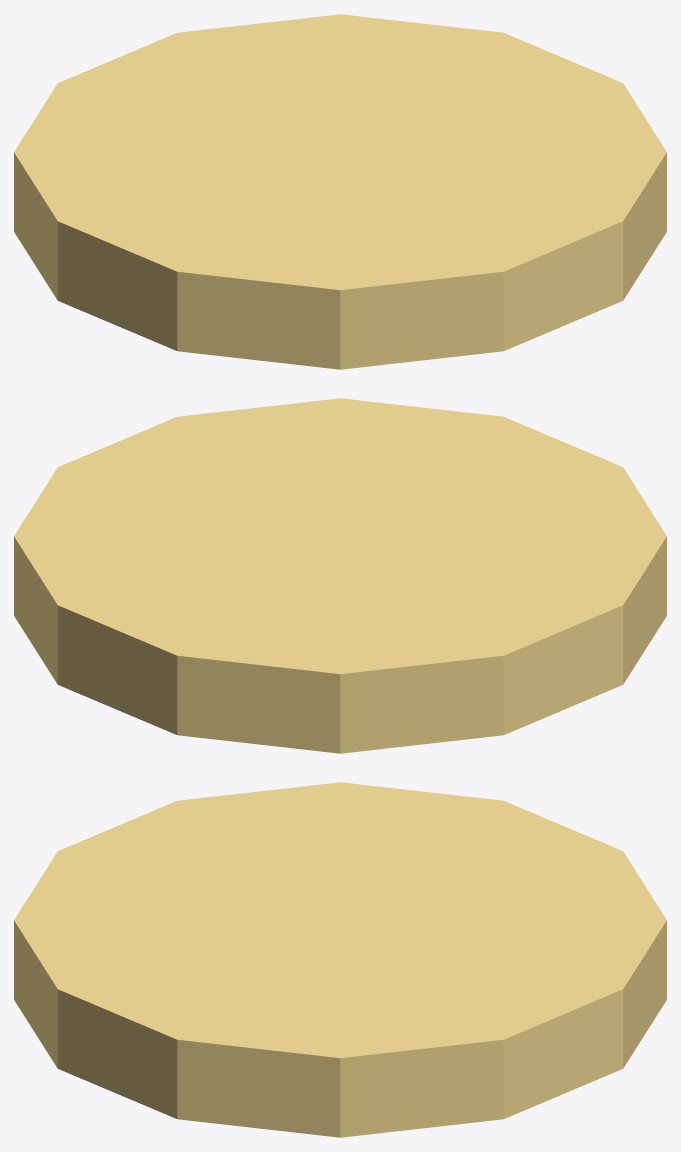
The model's file is gnomecoinv2.glb.
3 renders of one model, top to bottom at view 1: azimuth 30°, elevation 25°; view 2: azimuth 150°, elevation 25°; view 3: azimuth 270°, elevation 25°, orthographic.
Visible parts, largest first — view 1: Cylinder; view 2: Cylinder; view 3: Cylinder.
Boxes of the visible parts, x1,y1,x2,y2 form: Cylinder: [14, 14, 666, 369]; Cylinder: [14, 398, 666, 753]; Cylinder: [14, 782, 666, 1137].
Size of the model in its own units: 2 by 0.2688 by 2.
Materials: 1 (1 with a texture image).
